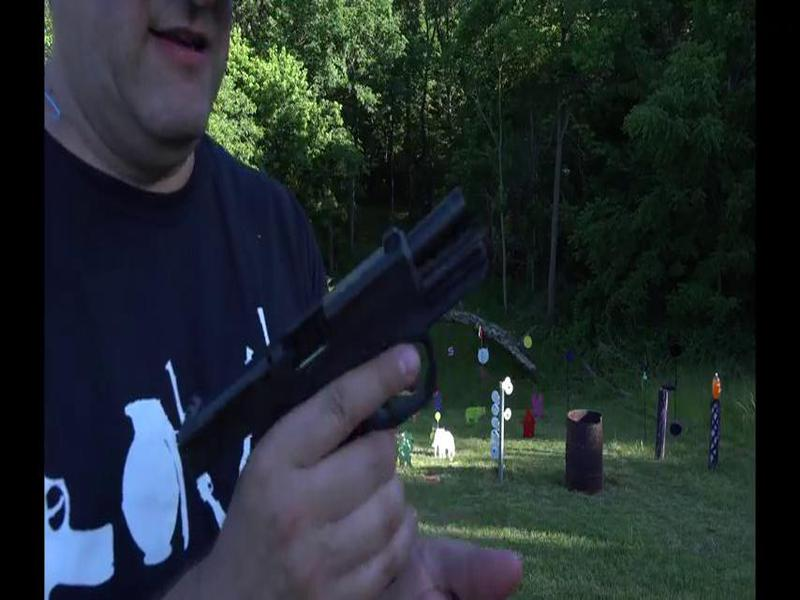Pistola: (180, 182, 484, 507)
